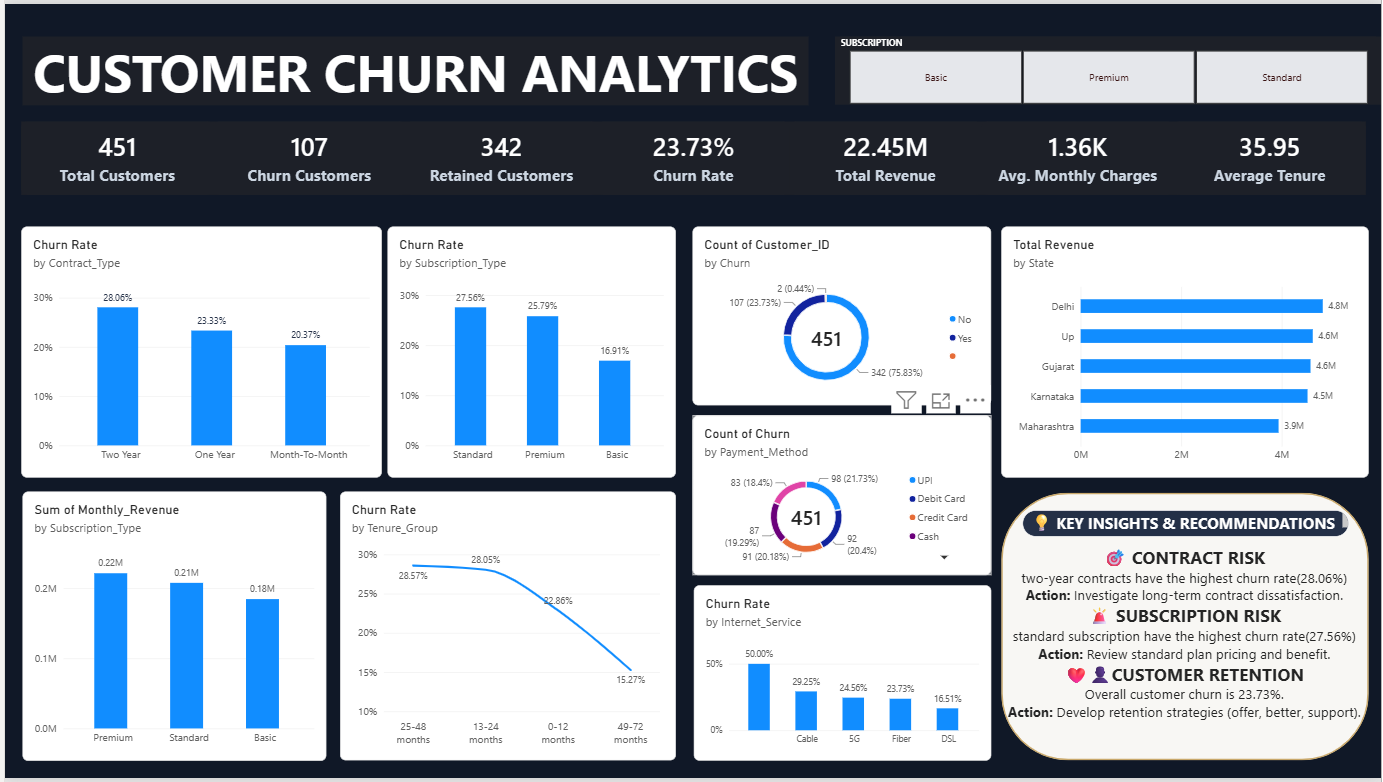

This screenshot's page, from the dashboard's own definition file:
{"tool":"powerbi","page":{"name":"Page 1","canvas":[1920,1080],"ordinal":0},"visuals":[{"type":"cardVisual","fields":{"Data":["Dax Measure.Total Customers","Dax Measure.Churn Customers","Dax Measure.Retained Customers","Dax Measure.Churn Rate","Dax Measure.Total Revenue","Dax Measure.Average Monthly Charges","Dax Measure.Average Tenure"]},"box":[23.4,163.6,1879,102.5],"z":0},{"type":"textbox","box":[24.4,45.3,1097.1,95.9],"z":1000},{"type":"columnChart","fields":{"Category":["Clean_Churn_Data.Subscription_Type"],"Y":["Dax Measure.Churn Rate"]},"box":[533.7,310.5,402.8,350.6],"z":2000},{"type":"clusteredBarChart","fields":{"Category":["Clean_Churn_Data.State"],"Y":["Dax Measure.Total Revenue"]},"box":[1390.1,310.5,512.8,350.6],"z":3000},{"type":"donutChart","fields":{"Category":["Clean_Churn_Data.Churn"],"Y":["CountNonNull(Clean_Churn_Data.Customer_ID)"]},"box":[959.3,310.5,416.9,249.4],"z":4000},{"type":"clusteredColumnChart","fields":{"Category":["Clean_Churn_Data.Internet_Service"],"Y":["Dax Measure.Churn Rate"]},"box":[960.2,810.9,415.4,244.5],"z":5000},{"type":"clusteredColumnChart","fields":{"Category":["Clean_Churn_Data.Subscription_Type"],"Y":["Sum(Clean_Churn_Data.Monthly_Revenue)"]},"box":[25.2,679.7,424.4,375.8],"z":6000},{"type":"lineChart","fields":{"Category":["Clean_Churn_Data.Tenure_Group"],"Y":["Dax Measure.Churn Rate"]},"box":[467.4,680.2,469.2,375],"z":7000},{"type":"donutChart","fields":{"Category":["Clean_Churn_Data.Payment_Method"],"Y":["CountNonNull(Clean_Churn_Data.Churn)"]},"box":[959.3,573.8,416.9,223.3],"z":8000},{"type":"clusteredColumnChart","fields":{"Category":["Clean_Churn_Data.Contract_Type"],"Y":["Dax Measure.Churn Rate"]},"box":[23.4,311.1,503.5,350.6],"z":9000},{"type":"slicer","fields":{"Values":["Clean_Churn_Data.Subscription_Type"]},"box":[1158.1,45.3,762.4,95.3],"z":10000},{"type":"textbox","box":[100,100,300,300],"z":12000},{"type":"shape","box":[1390.1,682,512.8,373.3],"z":12001},{"type":"textbox","box":[1419.8,706.4,455.2,36.6],"z":12002},{"type":"textbox","box":[1390.1,755.2,511,324.4],"z":12003}]}

Visuals, with their boxes in screenshot pixels (x1, y1, x2, y2), scaled from the page's 1920x1080 canvas onto the 1383x782 screenshot:
cardVisual - Dax Measure.Total Customers x Dax Measure.Churn Customers: 17/118/1370/193
textbox: 18/33/808/102
columnChart - Clean_Churn_Data.Subscription_Type x Dax Measure.Churn Rate: 384/225/675/479
clusteredBarChart - Clean_Churn_Data.State x Dax Measure.Total Revenue: 1001/225/1371/479
donutChart - Clean_Churn_Data.Churn x CountNonNull(Clean_Churn_Data.Customer_ID): 691/225/991/405
clusteredColumnChart - Clean_Churn_Data.Internet_Service x Dax Measure.Churn Rate: 692/587/991/764
clusteredColumnChart - Clean_Churn_Data.Subscription_Type x Sum(Clean_Churn_Data.Monthly_Revenue): 18/492/324/764
lineChart - Clean_Churn_Data.Tenure_Group x Dax Measure.Churn Rate: 337/493/675/764
donutChart - Clean_Churn_Data.Payment_Method x CountNonNull(Clean_Churn_Data.Churn): 691/415/991/577
clusteredColumnChart - Clean_Churn_Data.Contract_Type x Dax Measure.Churn Rate: 17/225/380/479
slicer - Clean_Churn_Data.Subscription_Type: 834/33/1382/102
textbox: 72/72/288/290
shape: 1001/494/1371/764
textbox: 1023/511/1351/538
textbox: 1001/547/1369/781
